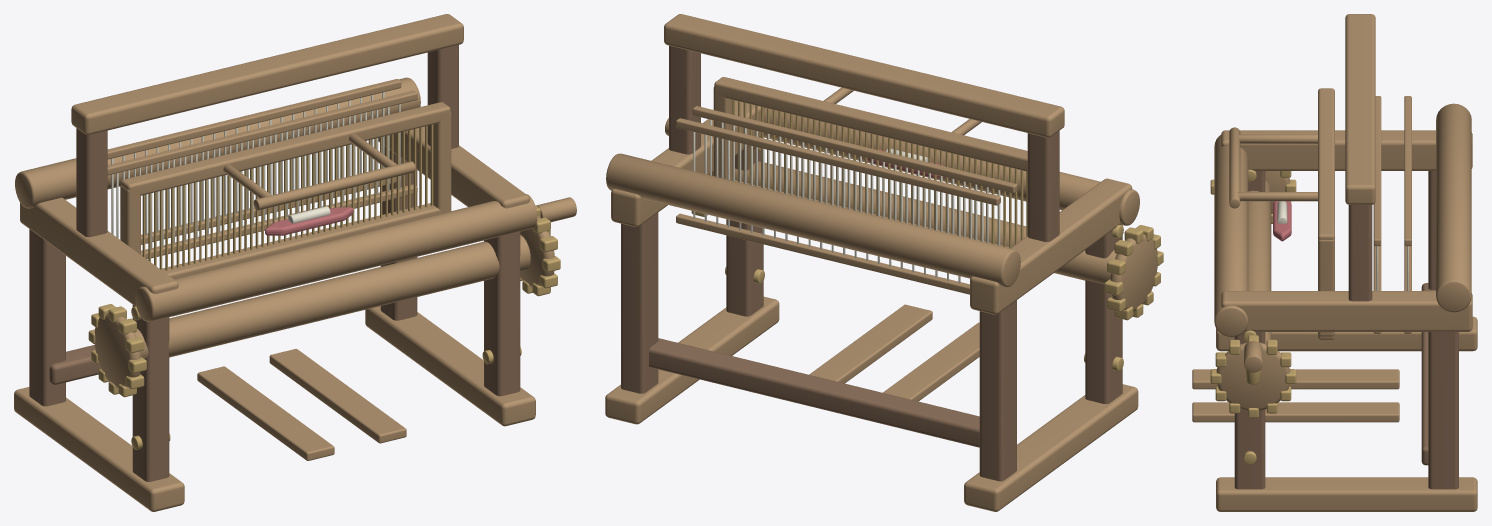
Rendered from interactive_loom.glb.
3 renders of one model, left to right at view 1: azimuth 30°, elevation 25°; view 2: azimuth 150°, elevation 25°; view 3: azimuth 270°, elevation 25°, orthographic. The views are drawn at different scales.
Parts seen in each view (by area): view 1: FrontBreastBeam, ClothRollCore, CastleBeam, Foot, Foot.001, ReedBar.001, BackBeam, SideRail, MortisedLeg, MortisedLeg.003, MortisedLeg.001, TreadleBoard (+18 smaller); view 2: BackBeam, CastleBeam, LowerStretcher, Foot, SideRail, ReedBar.001, MortisedLeg, MortisedLeg.002, Foot.001, ClothRollCore, FrontBreastBeam, MortisedLeg.001 (+11 smaller); view 3: SideRail.001, Foot.001, BackBeam, CastleBeam, FrontBreastBeam, SideRail, MortisedLeg.002, TreadleBoard.001, Foot, RatchetWheel.001, TreadleBoard, ReedBar.001 (+15 smaller).
Part boxes in pixels (x1=…): FrontBreastBeam: x1=135, y1=194, x2=537, y2=321; ClothRollCore: x1=134, y1=235, x2=530, y2=359; CastleBeam: x1=71, y1=14, x2=463, y2=134; Foot: x1=14, y1=387, x2=184, y2=511; Foot.001: x1=365, y1=306, x2=535, y2=426; ReedBar.001: x1=121, y1=102, x2=450, y2=195; BackBeam: x1=15, y1=77, x2=420, y2=208; SideRail: x1=20, y1=197, x2=178, y2=306; MortisedLeg: x1=29, y1=229, x2=65, y2=406; MortisedLeg.003: x1=484, y1=231, x2=520, y2=396; MortisedLeg.001: x1=132, y1=305, x2=169, y2=481; TreadleBoard: x1=197, y1=366, x2=334, y2=460; BackBeam: x1=606, y1=153, x2=1020, y2=287; CastleBeam: x1=664, y1=14, x2=1064, y2=137; LowerStretcher: x1=649, y1=338, x2=979, y2=447; Foot: x1=964, y1=384, x2=1138, y2=511; SideRail: x1=970, y1=178, x2=1132, y2=314; ReedBar.001: x1=714, y1=77, x2=1027, y2=171; MortisedLeg: x1=979, y1=300, x2=1016, y2=481; MortisedLeg.002: x1=621, y1=212, x2=658, y2=393; Foot.001: x1=605, y1=296, x2=779, y2=424; ClothRollCore: x1=712, y1=161, x2=1116, y2=284; FrontBreastBeam: x1=763, y1=108, x2=1139, y2=225; MortisedLeg.001: x1=1085, y1=224, x2=1122, y2=403; SideRail.001: x1=1221, y1=291, x2=1472, y2=331; Foot.001: x1=1216, y1=477, x2=1477, y2=511; BackBeam: x1=1436, y1=103, x2=1471, y2=312; CastleBeam: x1=1345, y1=14, x2=1375, y2=204; FrontBreastBeam: x1=1214, y1=135, x2=1248, y2=336; SideRail: x1=1221, y1=130, x2=1472, y2=170; MortisedLeg.002: x1=1428, y1=332, x2=1458, y2=489; TreadleBoard.001: x1=1192, y1=402, x2=1399, y2=422; Foot: x1=1216, y1=316, x2=1477, y2=351; RatchetWheel.001: x1=1216, y1=342, x2=1290, y2=410; TreadleBoard: x1=1192, y1=369, x2=1399, y2=389; ReedBar.001: x1=1318, y1=88, x2=1334, y2=239.
Size of the model in its own units: 2.95 by 2.11 by 1.68.
